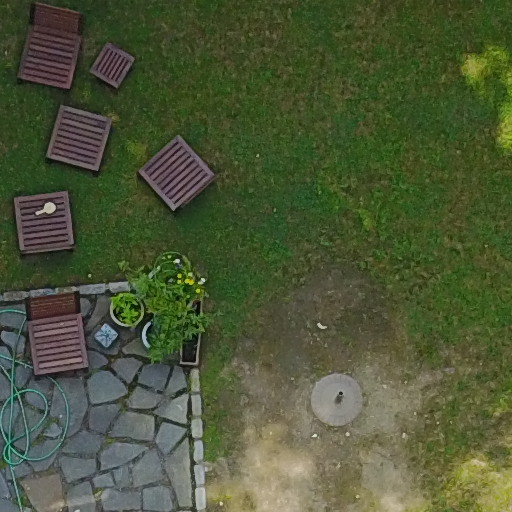container: (335, 386, 348, 403)
flower pot: (147, 252, 196, 299), (141, 310, 190, 357), (105, 288, 147, 330)
watering can: (31, 201, 59, 222)
